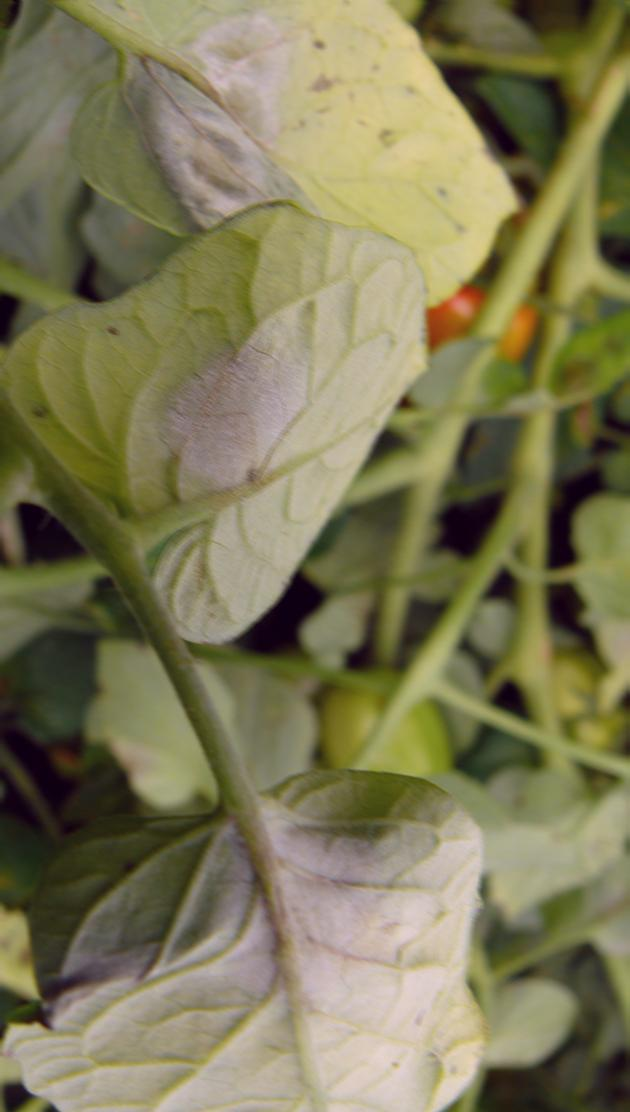Tomato leaf late blight: (0, 217, 428, 653), (0, 771, 512, 1112), (11, 0, 554, 316)
